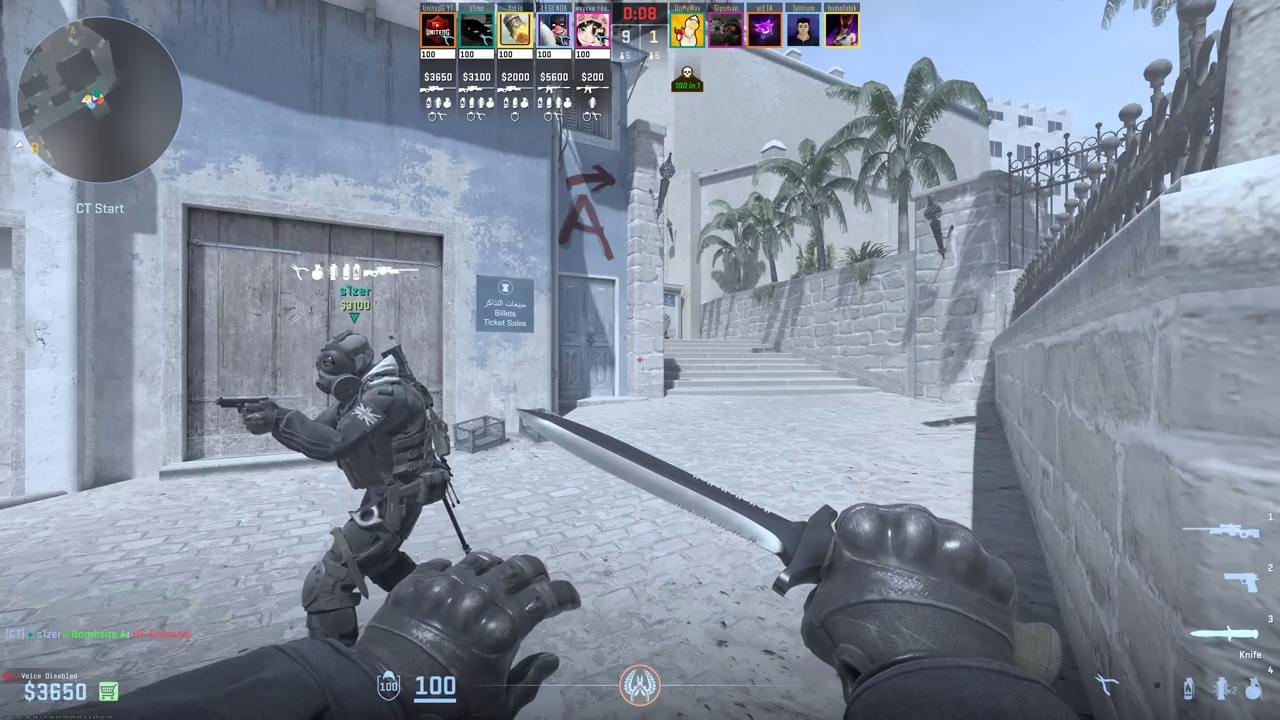CT: (292, 335, 442, 640)
